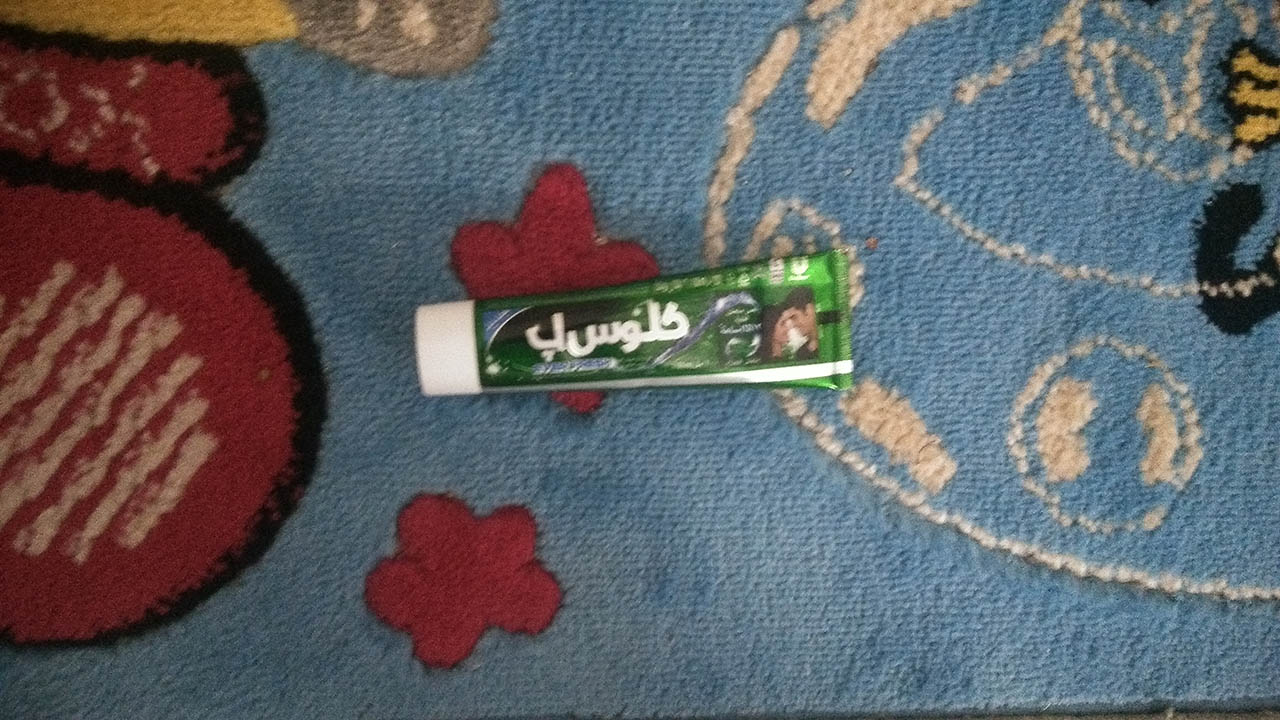Toothpaste-Closeup 3.04$: (392, 234, 884, 453)
